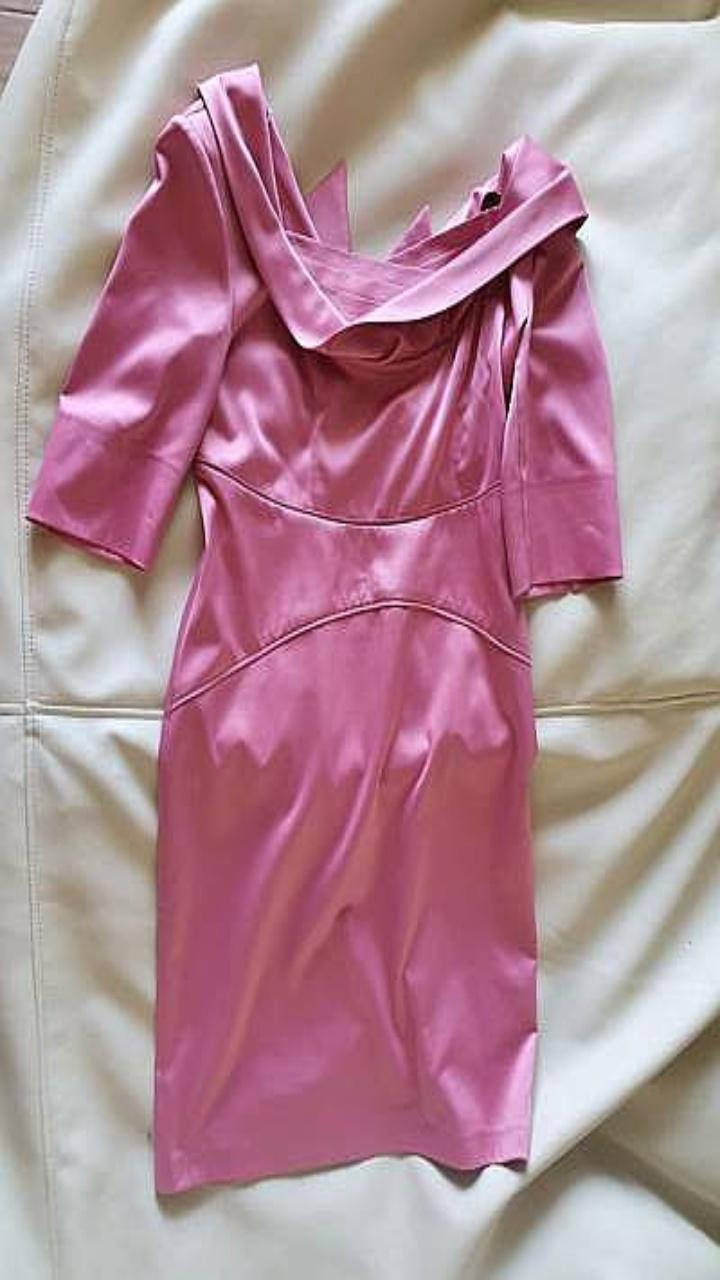Dresses: (27, 62, 622, 1192)
